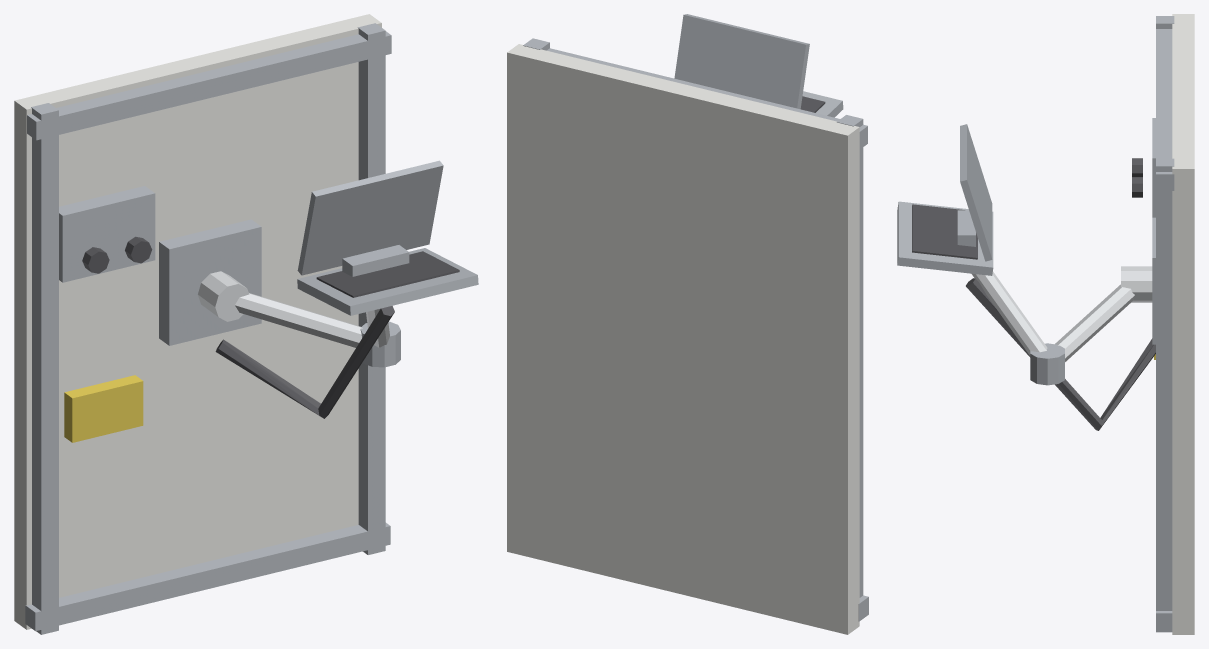
The model's file is orbital-station-and-docking-bays-laptop-station-62faeeca__24576.glb.
3 views of the same model, side by side, from view 1: azimuth 30°, elevation 25°; view 2: azimuth 150°, elevation 25°; view 3: azimuth 270°, elevation 25° (orthographic). The views are drawn at different scales.
Visible parts, largest first — view 1: laptop-station; view 2: laptop-station; view 3: laptop-station.
Part boxes in pixels (left/top/right/bottom): laptop-station: left=14, top=14, right=478, bottom=634; laptop-station: left=507, top=14, right=868, bottom=634; laptop-station: left=897, top=14, right=1194, bottom=634.
Size of the model in its own units: 1 by 1.4 by 0.8091.
